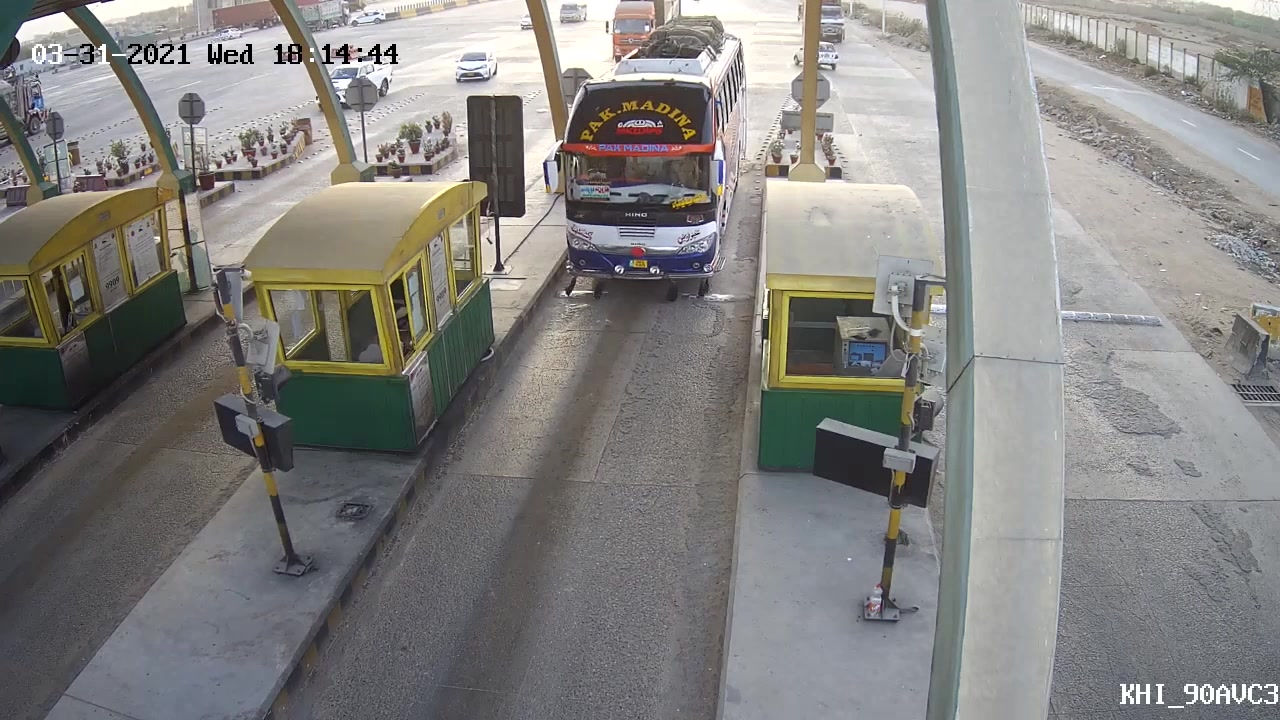F4: (539, 2, 755, 304)
